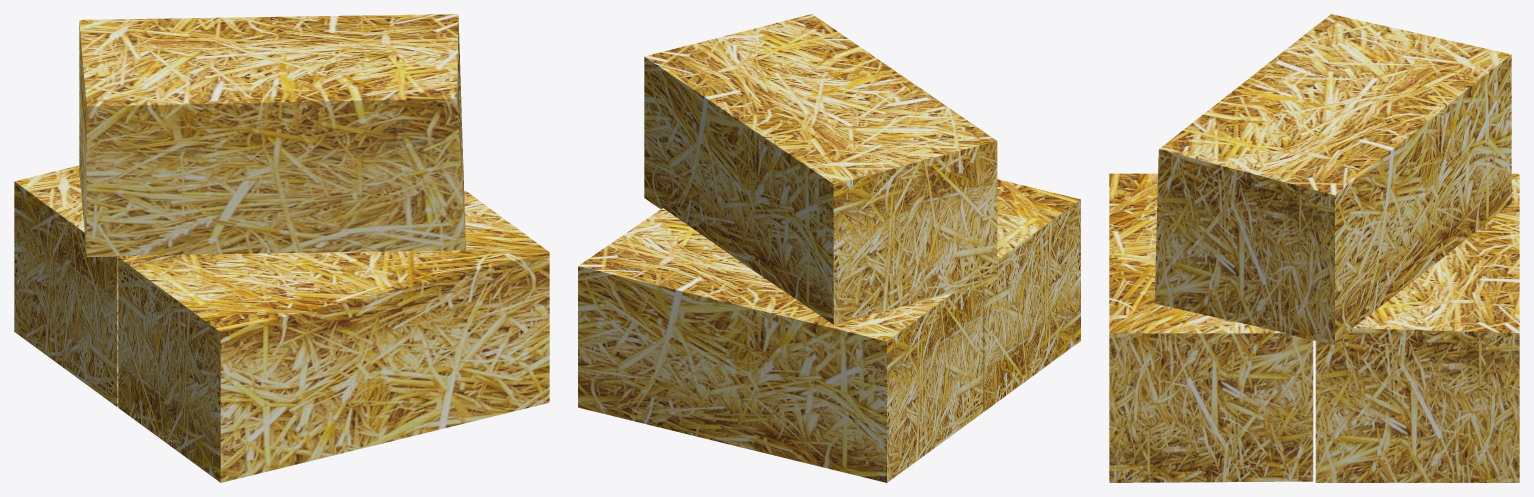
File: haybale_3p.fbx
3 renders of one model, left to right at view 1: azimuth 30°, elevation 25°; view 2: azimuth 150°, elevation 25°; view 3: azimuth 270°, elevation 25°, orthographic. The views are drawn at different scales.
Visible parts, largest first — view 1: pCube4; view 2: pCube4; view 3: pCube4.
Boxes of the visible parts, x1,y1,x2,y2 form: pCube4: (14, 14, 549, 482); pCube4: (578, 14, 1080, 482); pCube4: (1109, 14, 1519, 482).
Size of the model in its own units: 33.38 by 26.02 by 31.93.
